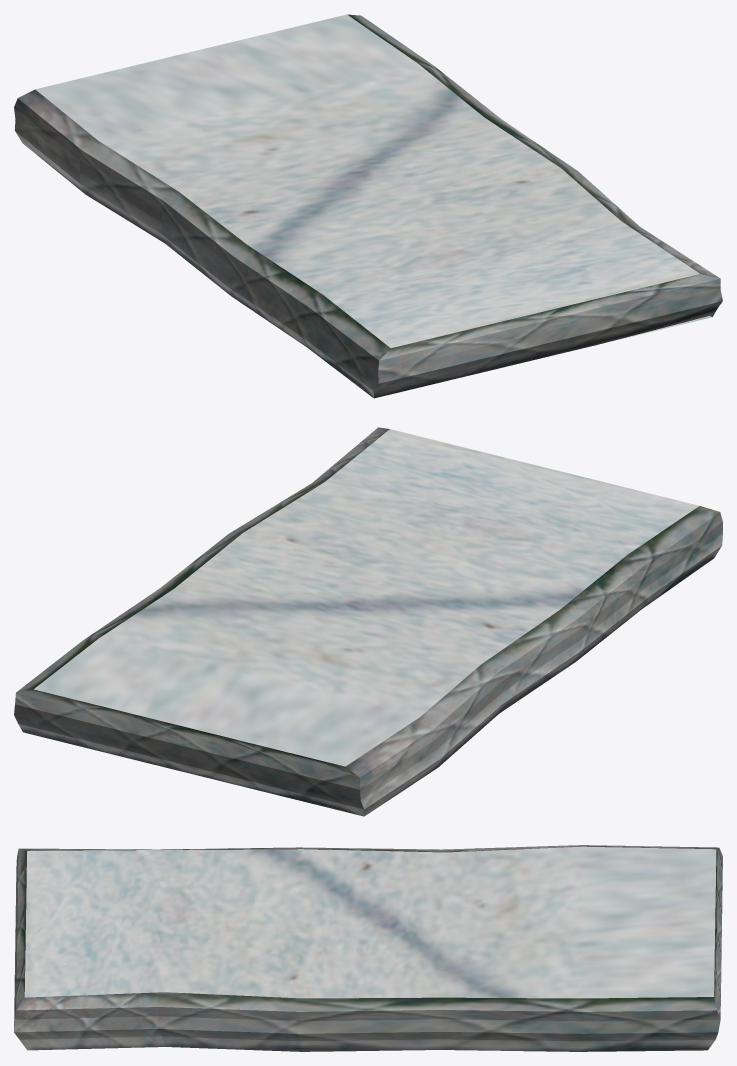
Rendered from Mattress.fbx.
The picture shows the model from 3 angles, top to bottom: view 1: azimuth 30°, elevation 25°; view 2: azimuth 150°, elevation 25°; view 3: azimuth 270°, elevation 25°; orthographic projection. The views are drawn at different scales.
Parts seen in each view (by area): view 1: Mattress; view 2: Mattress; view 3: Mattress.
Boxes of the visible parts, bbox=[...] form: Mattress: bbox=[14, 14, 722, 398]; Mattress: bbox=[14, 427, 722, 816]; Mattress: bbox=[14, 845, 722, 1051].
Bounding box in the file's own units: 315 × 41.91 × 558.
